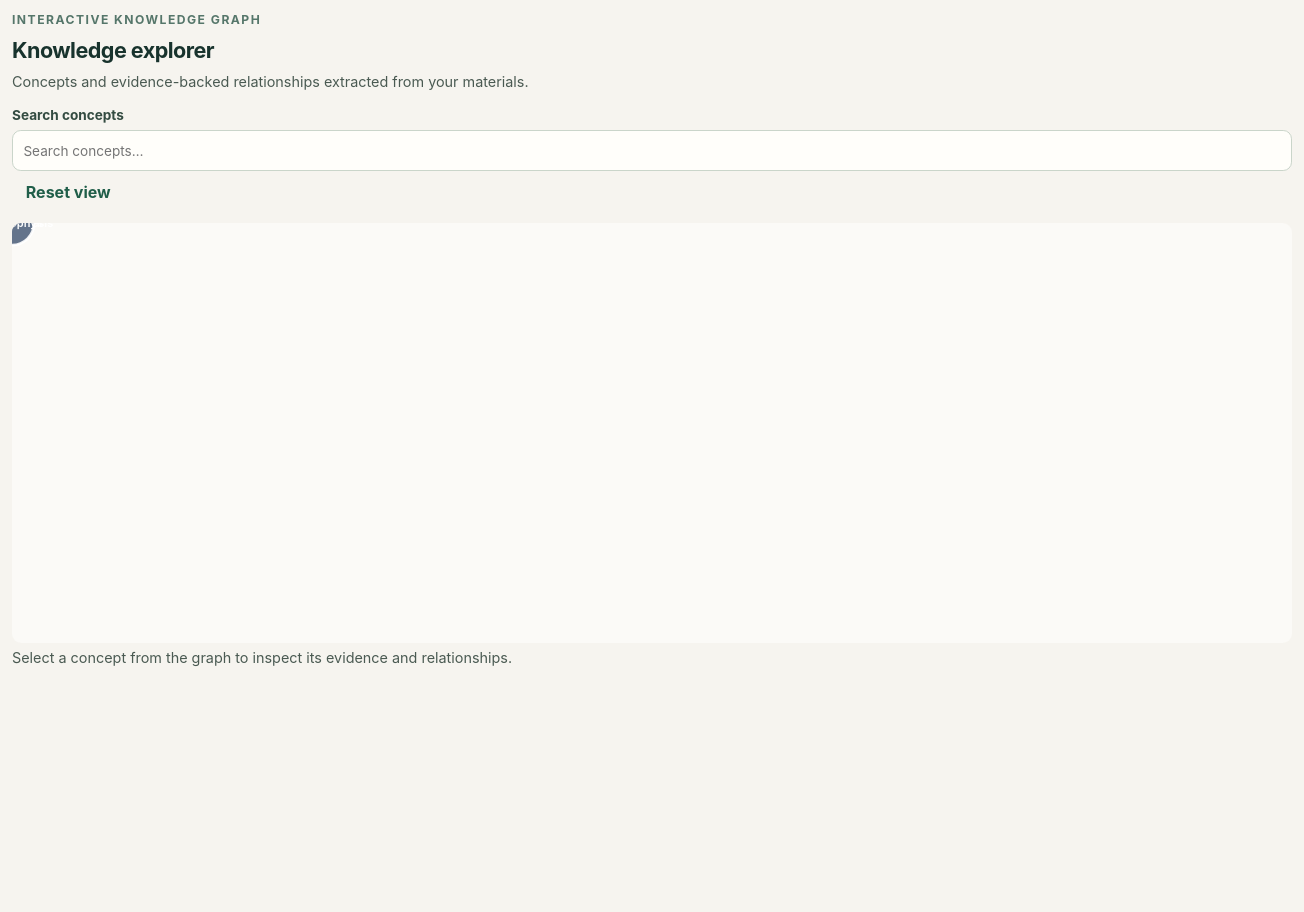
Test: KnowledgeExplorer › filters concepts by search query
The width and height of the screenshot is (1304, 912).
Type "Chlorophyll" into the search field with placeholder "Search concepts…" at [652, 151], box [12, 130, 1292, 171]
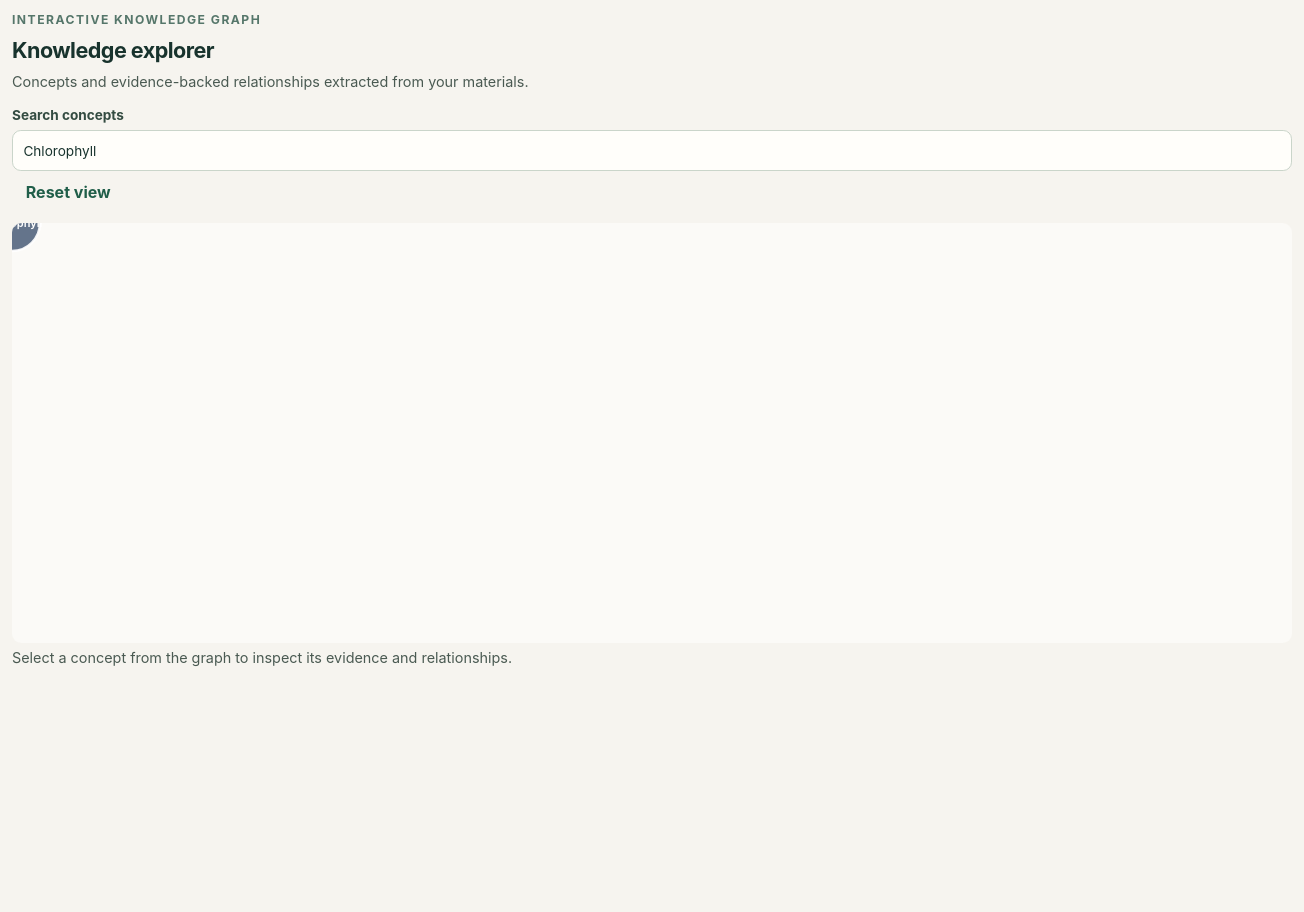
Result: the icon "Photosynthesis" is gone
